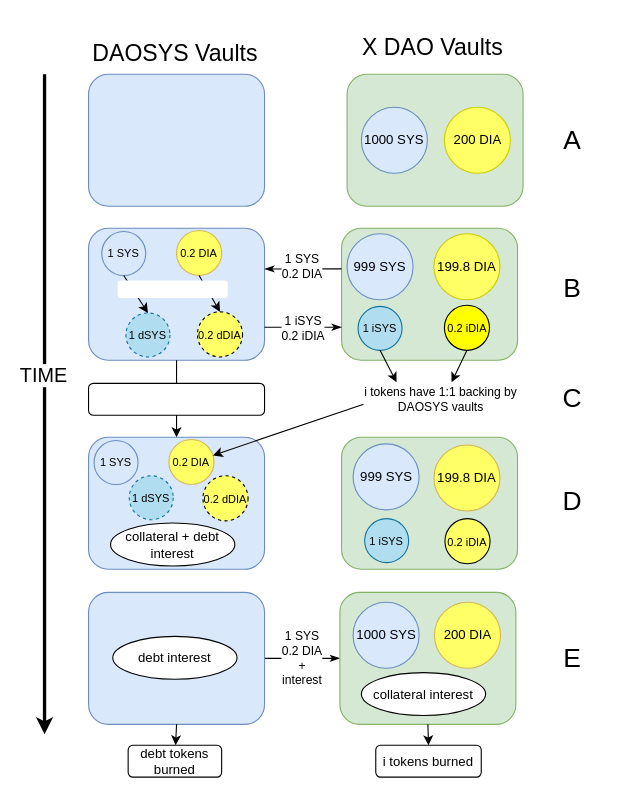
Image size: 624x796. Some labels were removed from this diagram. Here are the shapes that lost their labels. From the top down, the box of each, then its label:
(117, 280, 227, 298): debt tokens created
(87, 382, 265, 415): DeFi Investment Engine
